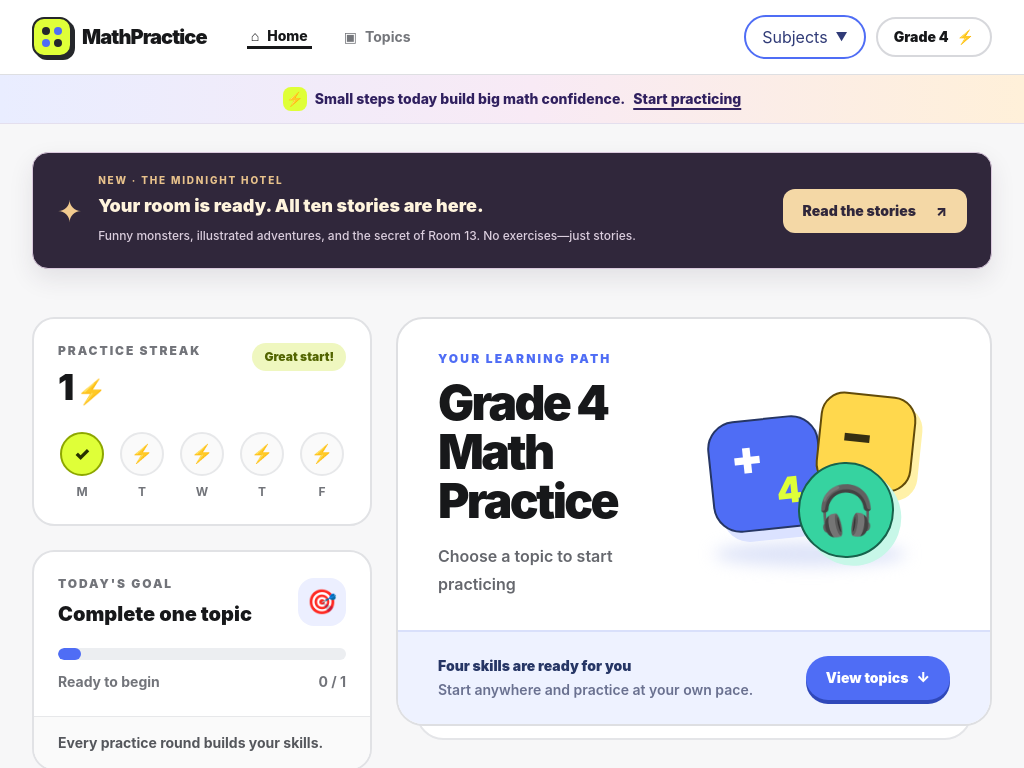
Test: topic selection › offers Science and Social Studies with 20-question practice
Click the button with aria-label "Choose subject" at (805, 37), box [744,15,866,59]
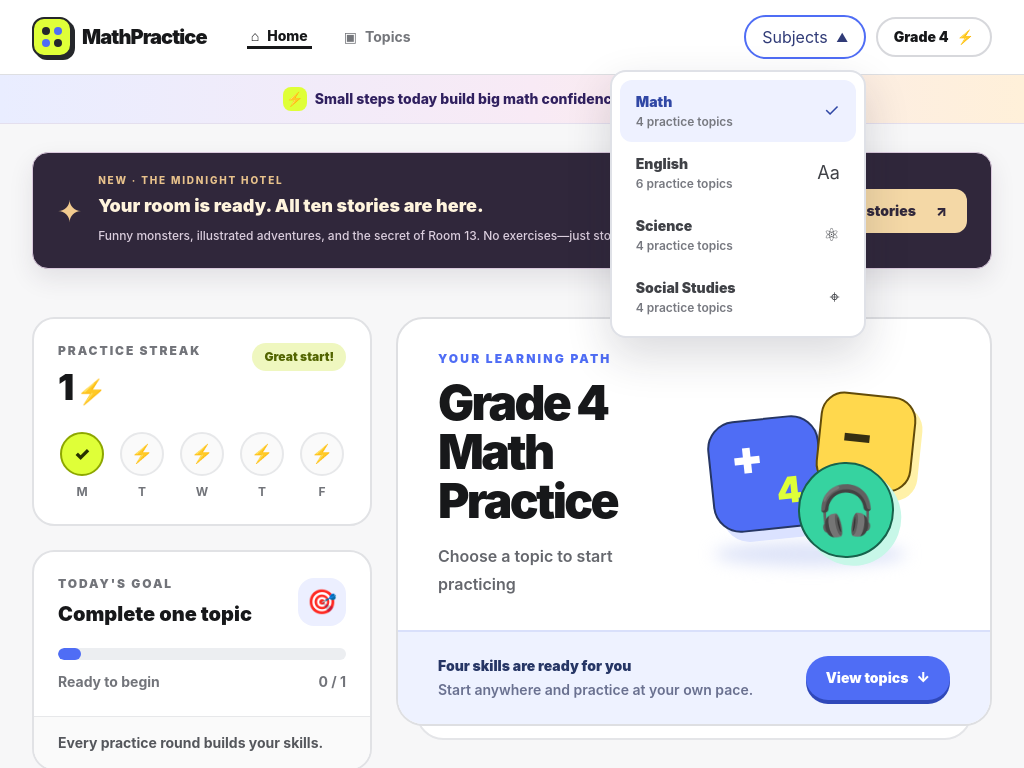
Result: the menu item with aria-label "Science, 4 practice topics" is shown
Result: the menu item with aria-label "Social Studies, 4 practice topics" is shown at [620,266,856,328]
Click the menu item with aria-label "Science, 4 practice topics" at (738, 235), box [620,204,856,266]
(page scrolled)
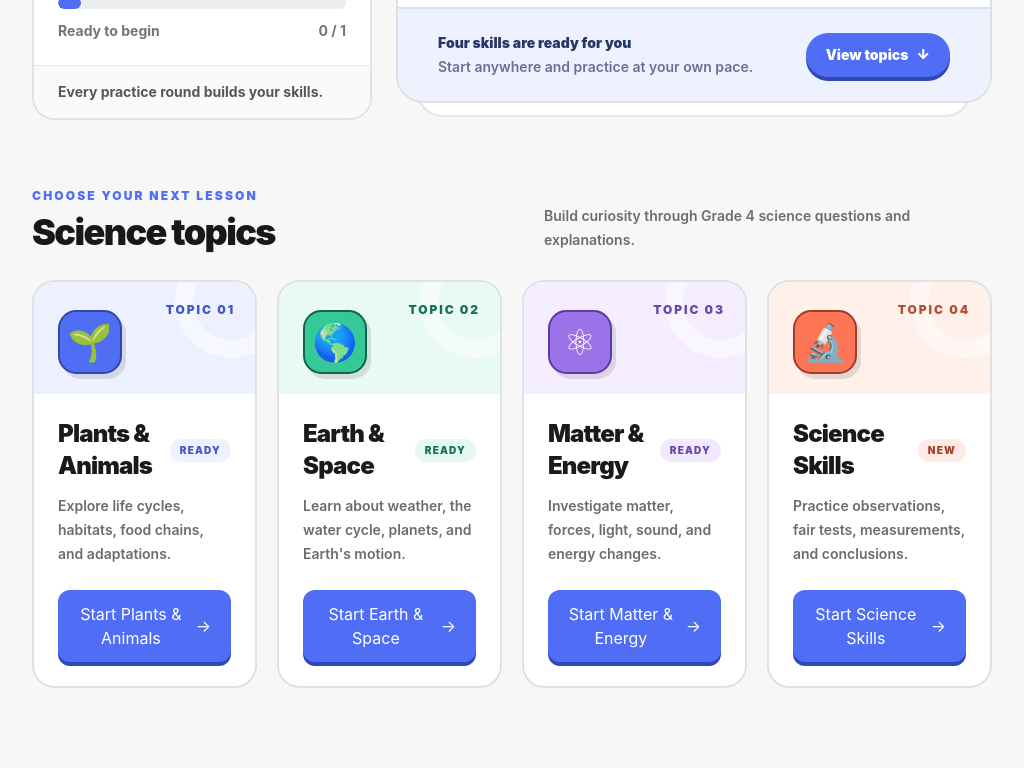
Result: the heading "Science topics" is shown at [32,212,275,252]
Click the button "Start Plants & Animals →" at (144, 626), box [58,590,231,662]
(page scrolled)
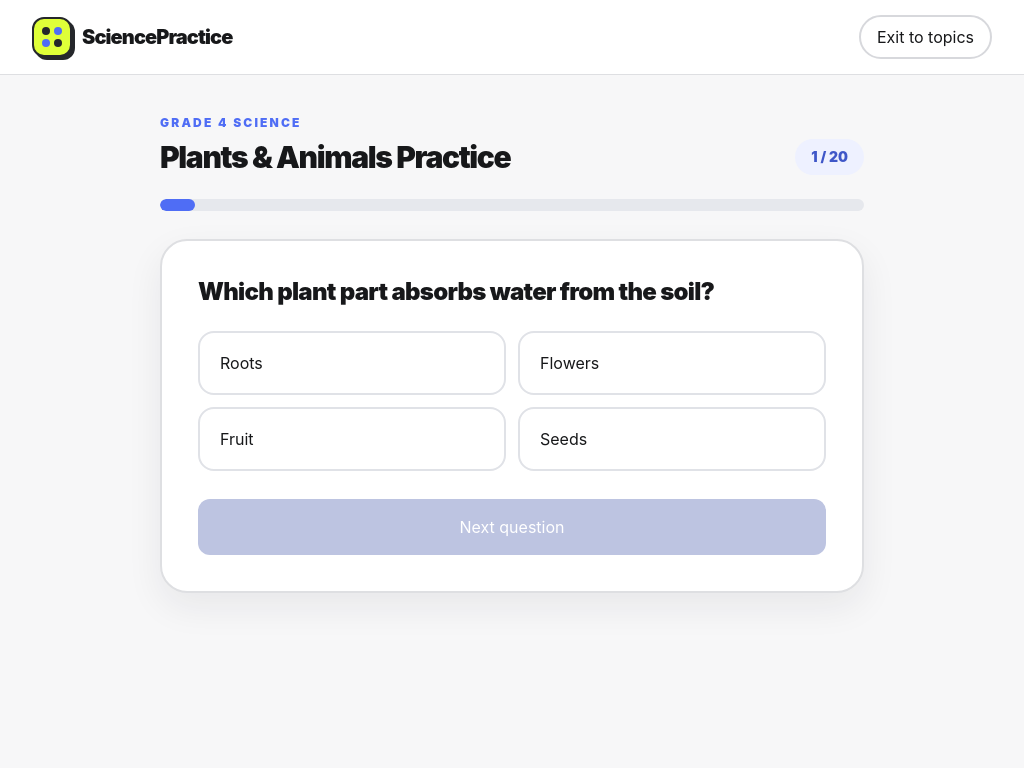
Result: the heading "Plants & Animals Practice" is shown at [160,139,510,175]
Result: the text "1 / 20" is shown at [795,139,864,175]
